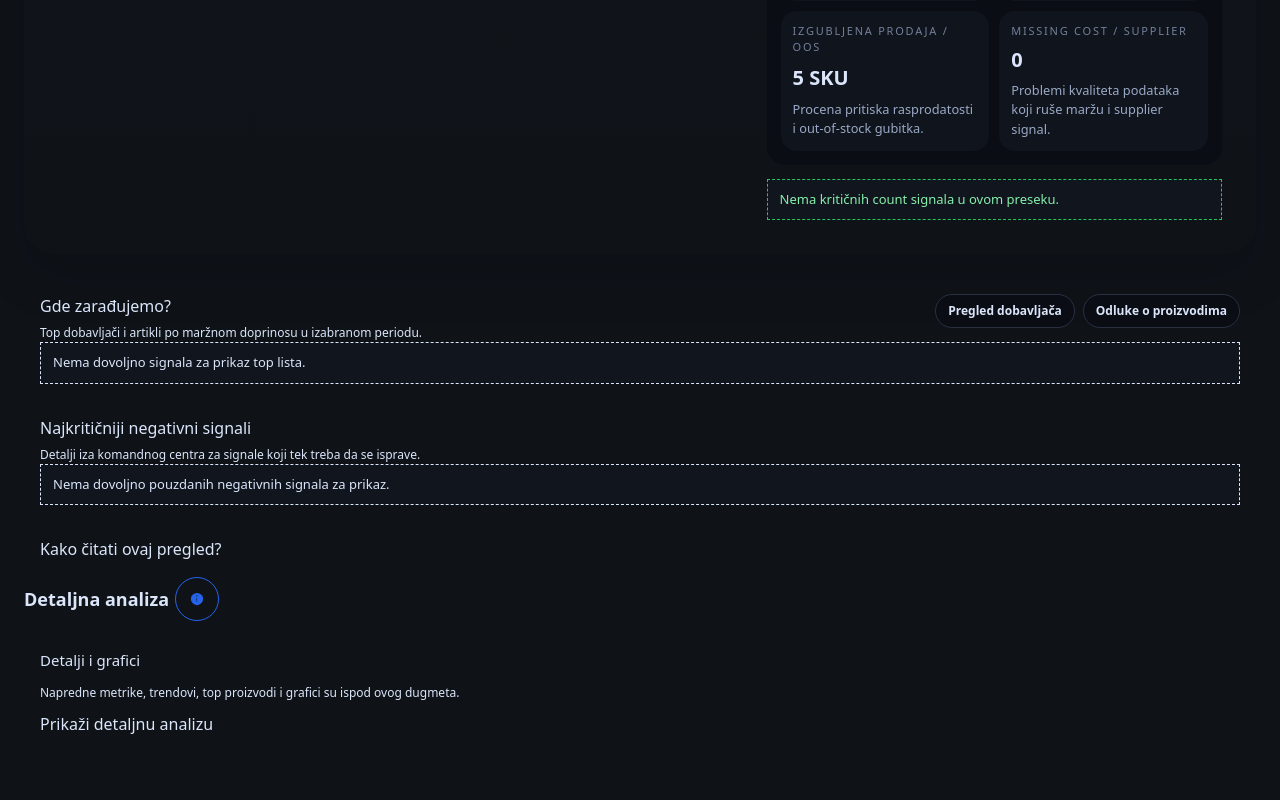
it: AnalyticsDashboard control bar › keeps dashboard inventory ratios and tones trustworthy for 0
(page scrolled)
Click the button "Prikaži detaljnu analizu": click(127, 724) [40,712,213,736]
(page scrolled)
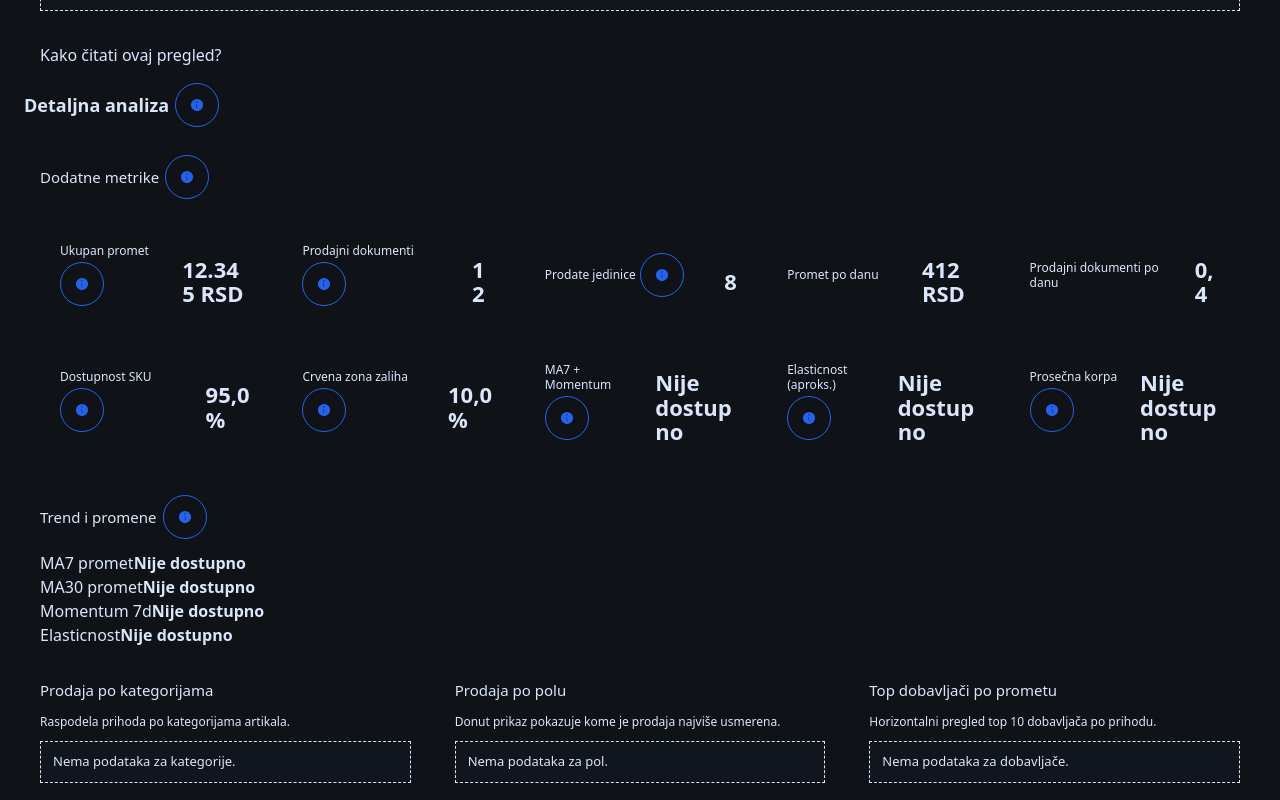
Now the text "95,0%" is shown, box [206,382,250,431]
Now the text "10,0%" is shown, box [448,382,493,431]
